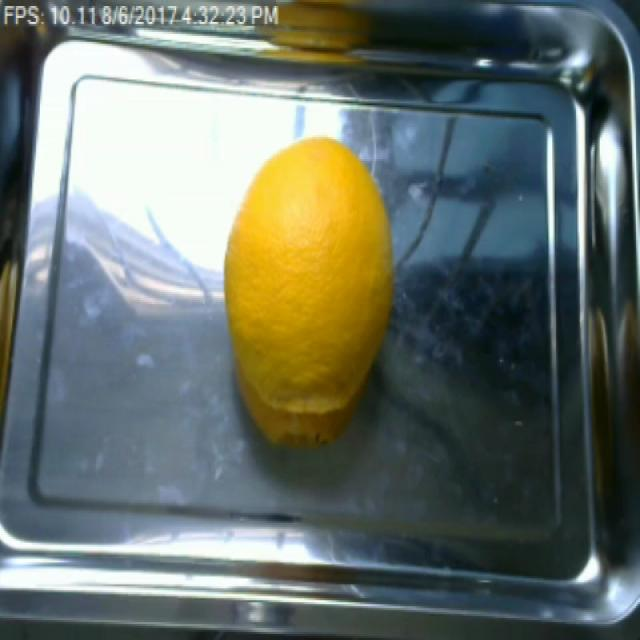Fruit: (217, 111, 396, 318)
